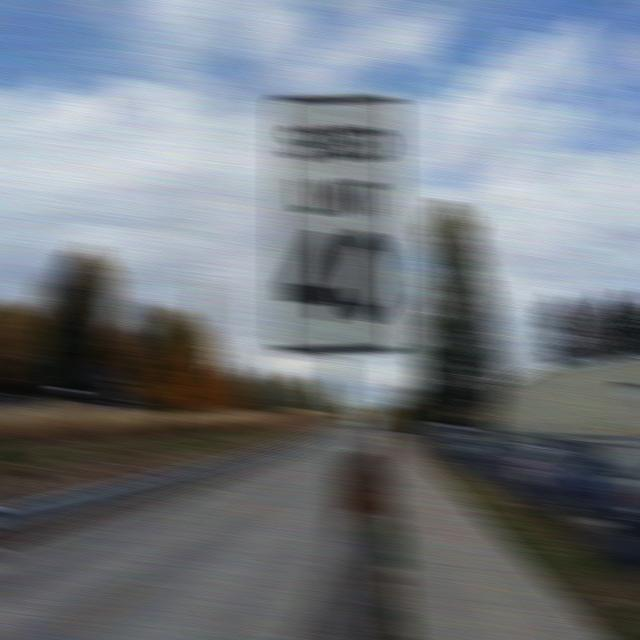speedLimit40: (269, 90, 407, 359)
